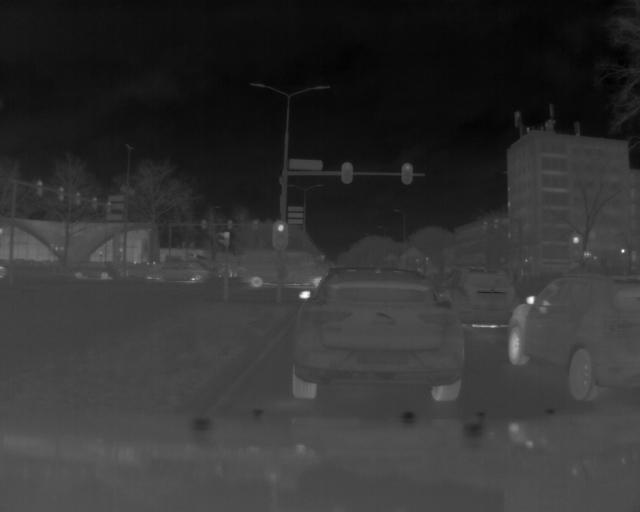car: (287, 265, 468, 412), (508, 274, 640, 401), (240, 246, 325, 288), (143, 255, 218, 287), (66, 256, 119, 285)
